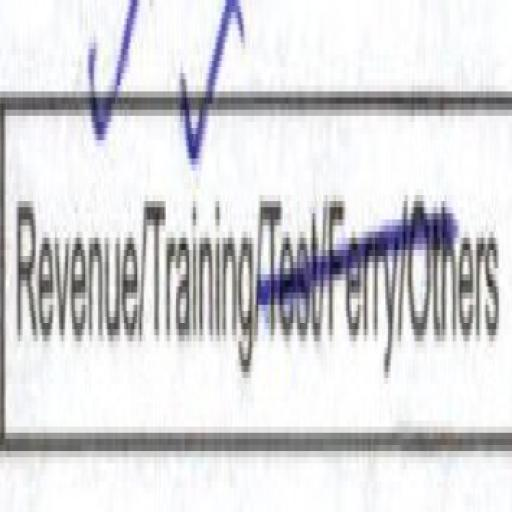check: (10, 0, 140, 462), (146, 0, 256, 466)
